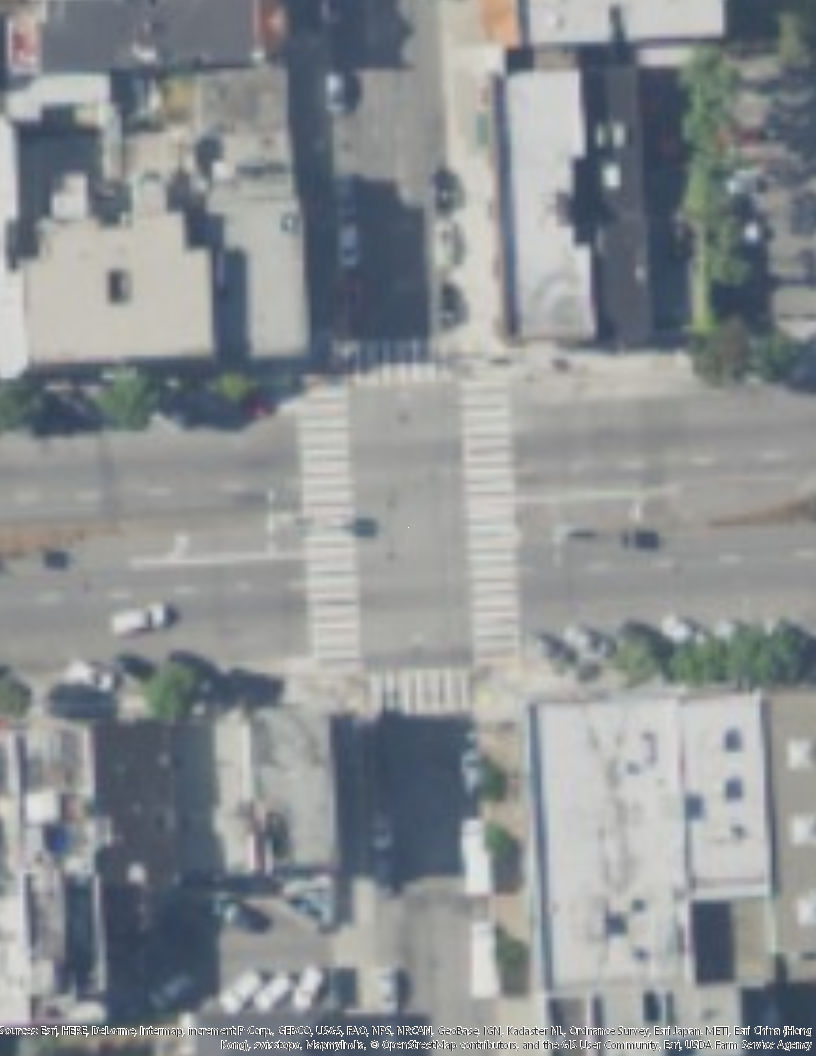zebracross: (287, 389, 363, 663), (453, 377, 522, 671), (333, 335, 443, 387), (367, 668, 470, 717)
